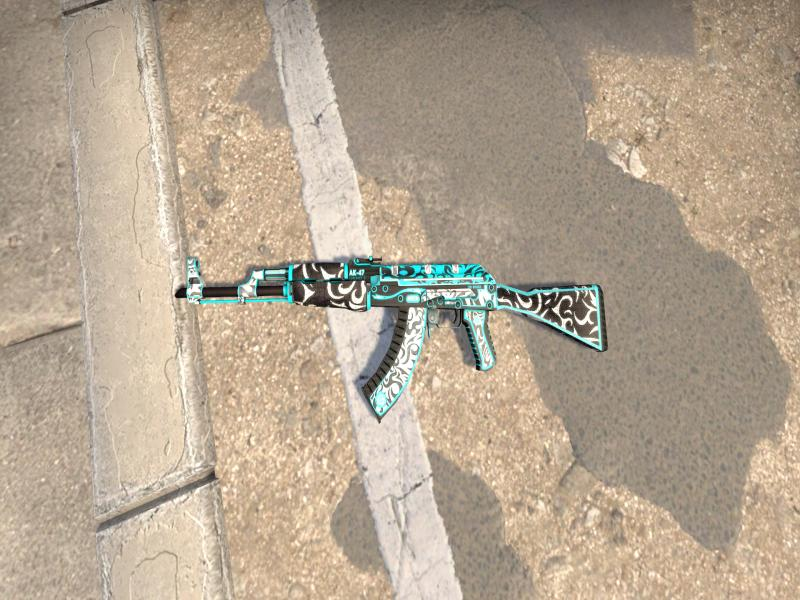AK47: (176, 257, 608, 420)
